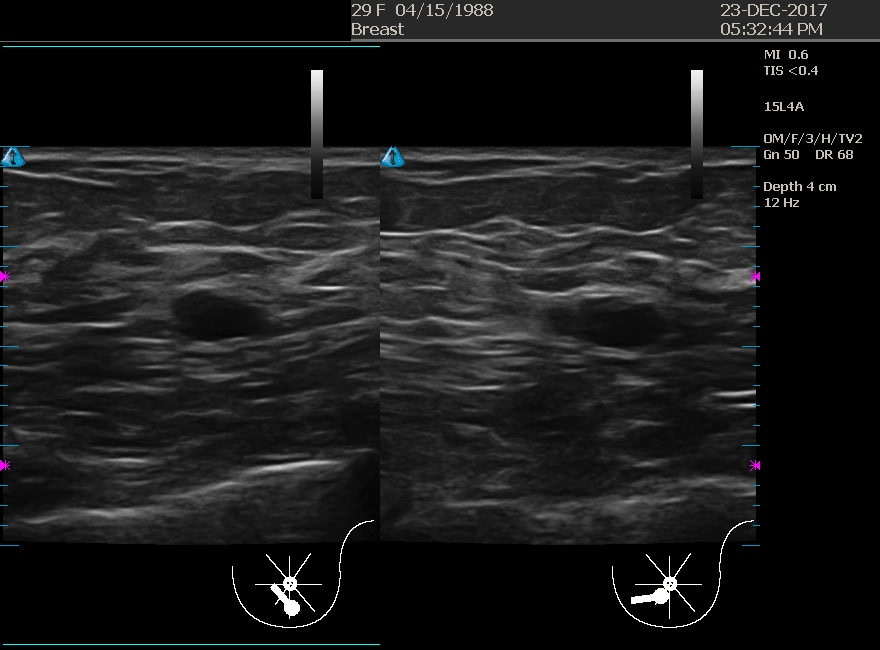BIRADS_4: (125, 208, 325, 408), (514, 219, 714, 419)
